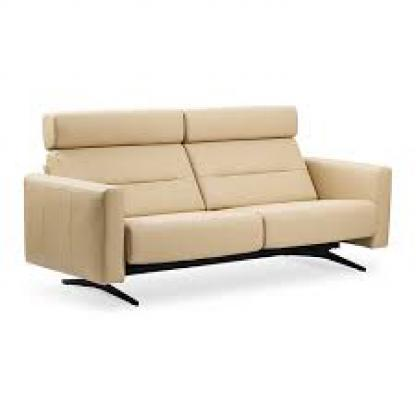sofa: (17, 106, 396, 310)
